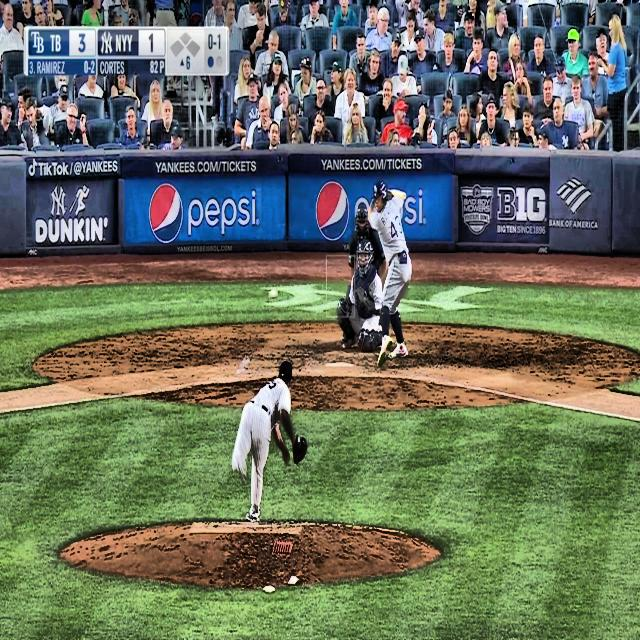baseball: (268, 289, 278, 299)
